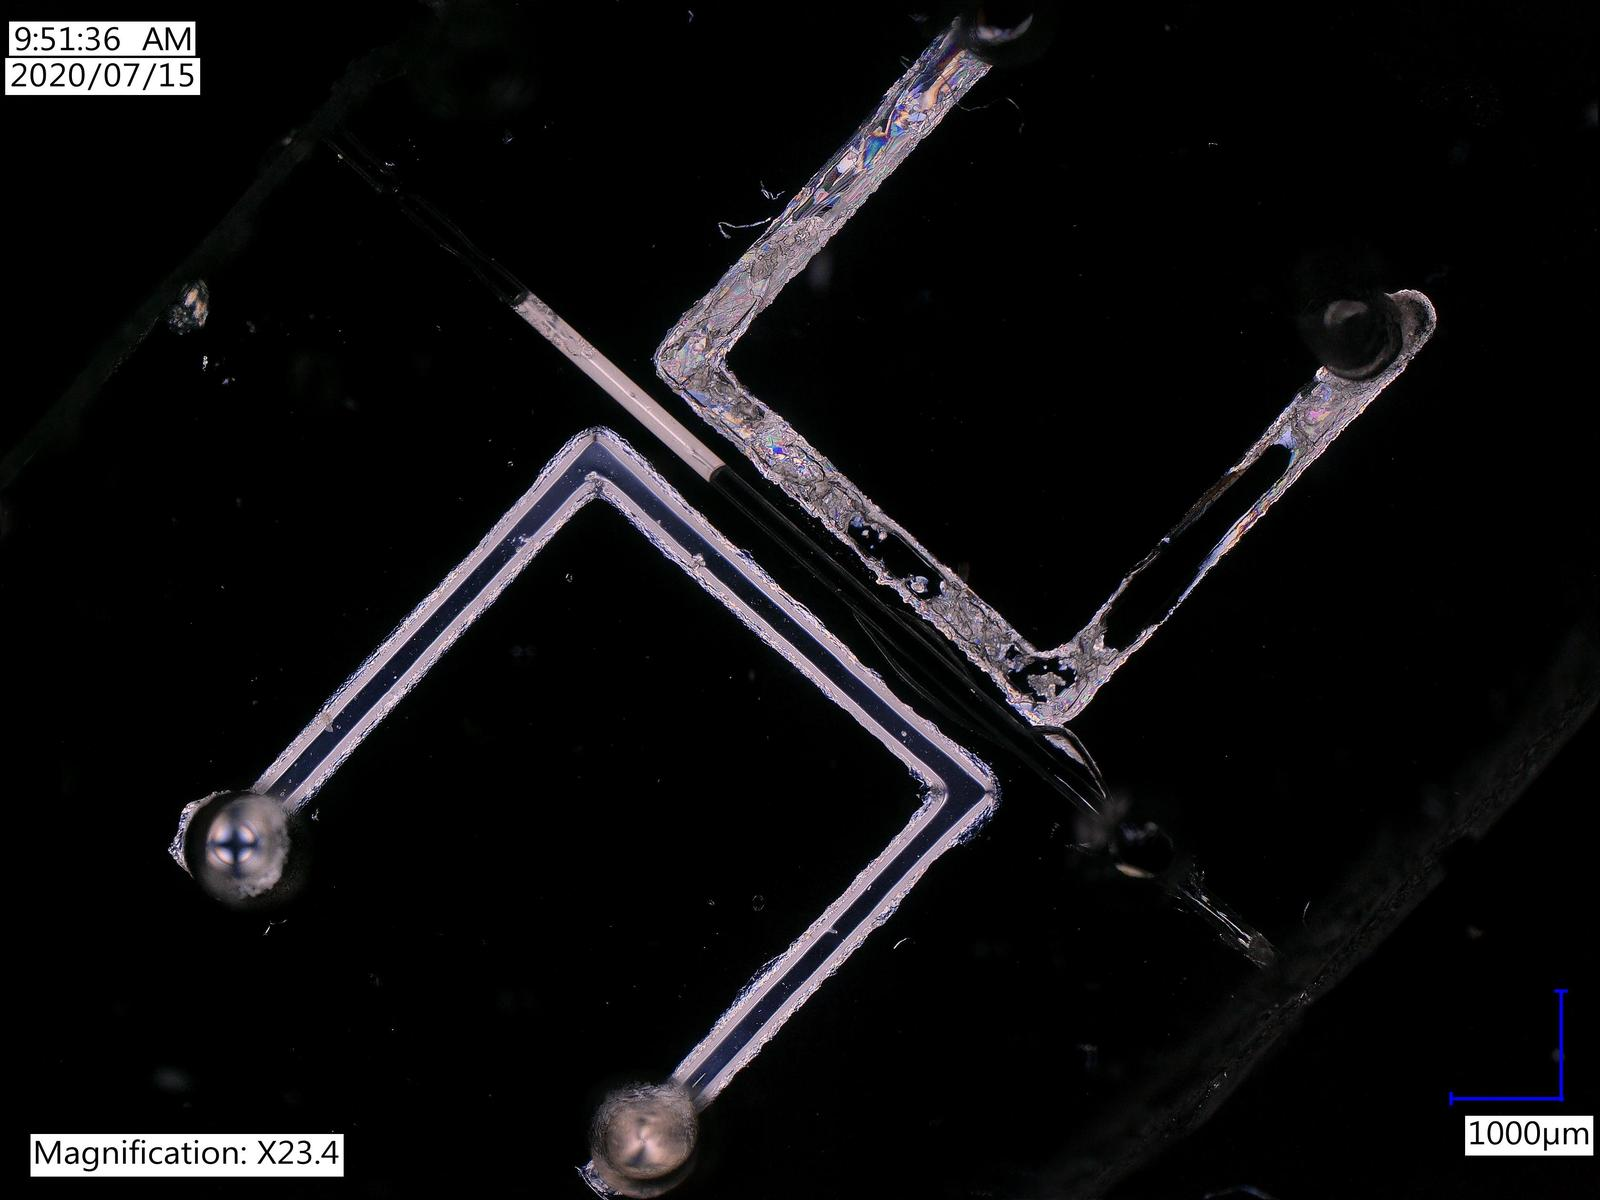sediment: (932, 584, 1009, 661), (682, 366, 766, 430), (797, 476, 873, 528), (750, 234, 799, 276), (1286, 406, 1323, 453), (1077, 621, 1104, 678), (1026, 671, 1065, 695)
